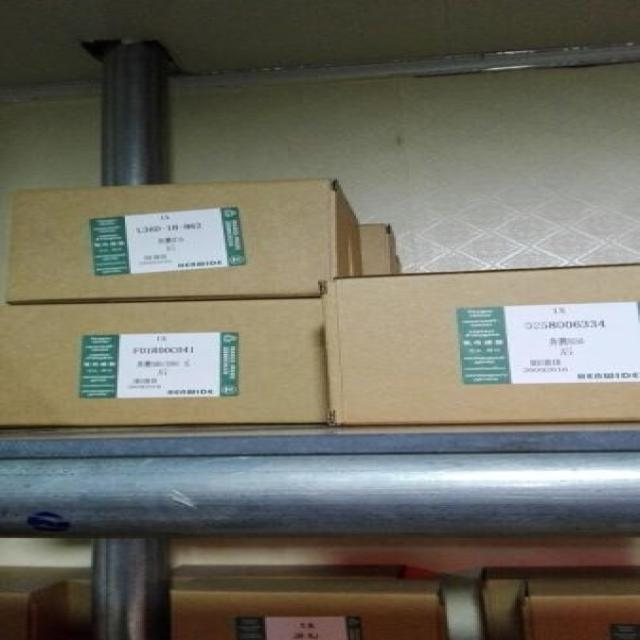Carton: (4, 180, 638, 425)
